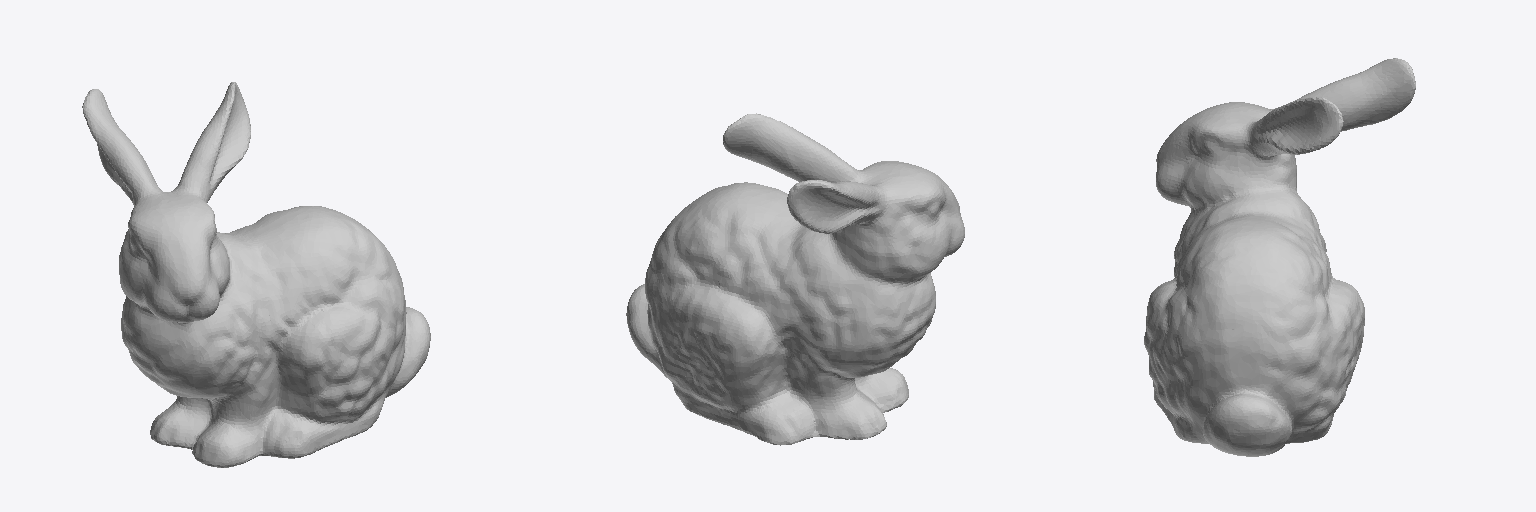
File: bunny.obj
3 views of the same model, side by side, from view 1: azimuth 30°, elevation 25°; view 2: azimuth 150°, elevation 25°; view 3: azimuth 270°, elevation 25° (orthographic).
Visible parts, largest first — view 1: Bunny; view 2: Bunny; view 3: Bunny.
Part boxes in pixels (x1,y1,x2,y2): Bunny: (82,82,430,467); Bunny: (626,113,964,445); Bunny: (1144,58,1415,456).
Bounding box in the file's own units: 500 × 495 × 387.